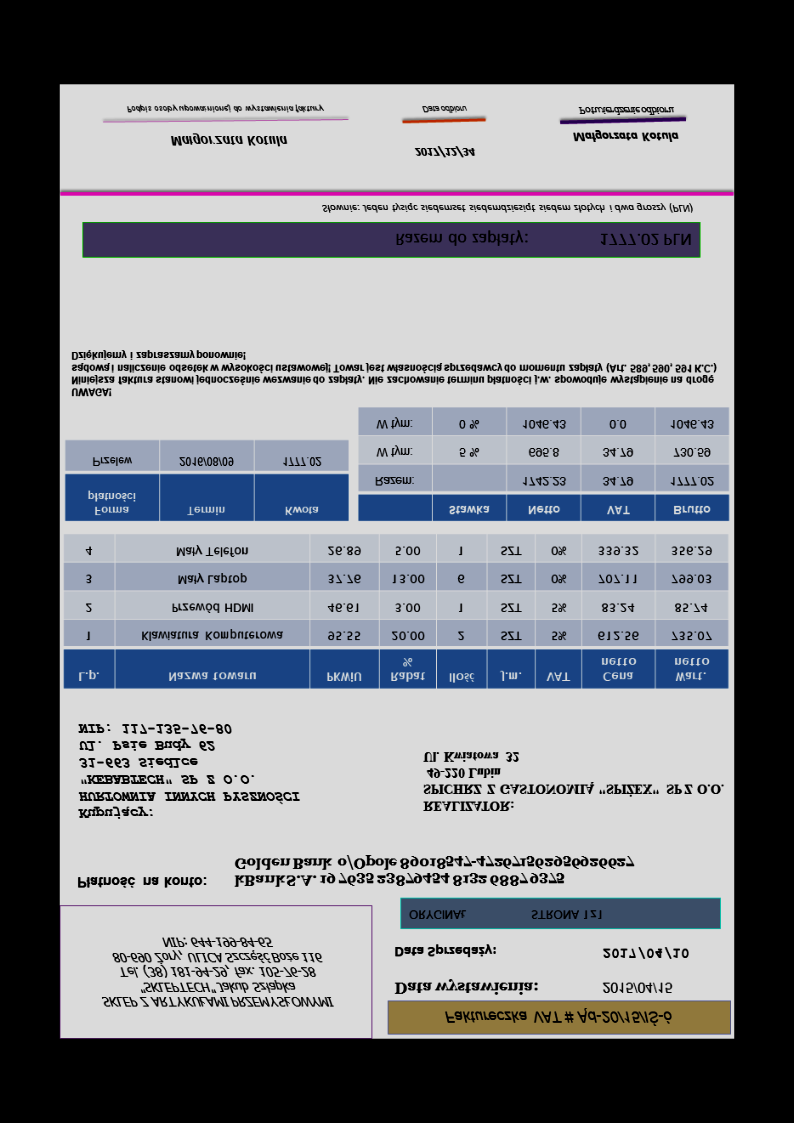Table: (61, 531, 730, 692), (354, 405, 730, 524), (64, 440, 350, 523)
TextBox: (68, 347, 720, 402), (73, 721, 303, 824), (419, 748, 728, 816), (98, 931, 337, 1016), (230, 853, 638, 892), (391, 230, 693, 253), (319, 201, 699, 217), (440, 1008, 678, 1029), (406, 904, 605, 925), (392, 978, 542, 1001), (121, 102, 327, 117), (71, 871, 211, 892), (168, 131, 291, 154), (389, 941, 502, 962), (567, 128, 683, 147), (599, 944, 693, 965), (598, 977, 674, 1001), (573, 103, 678, 117), (411, 144, 477, 161), (418, 100, 470, 117)
